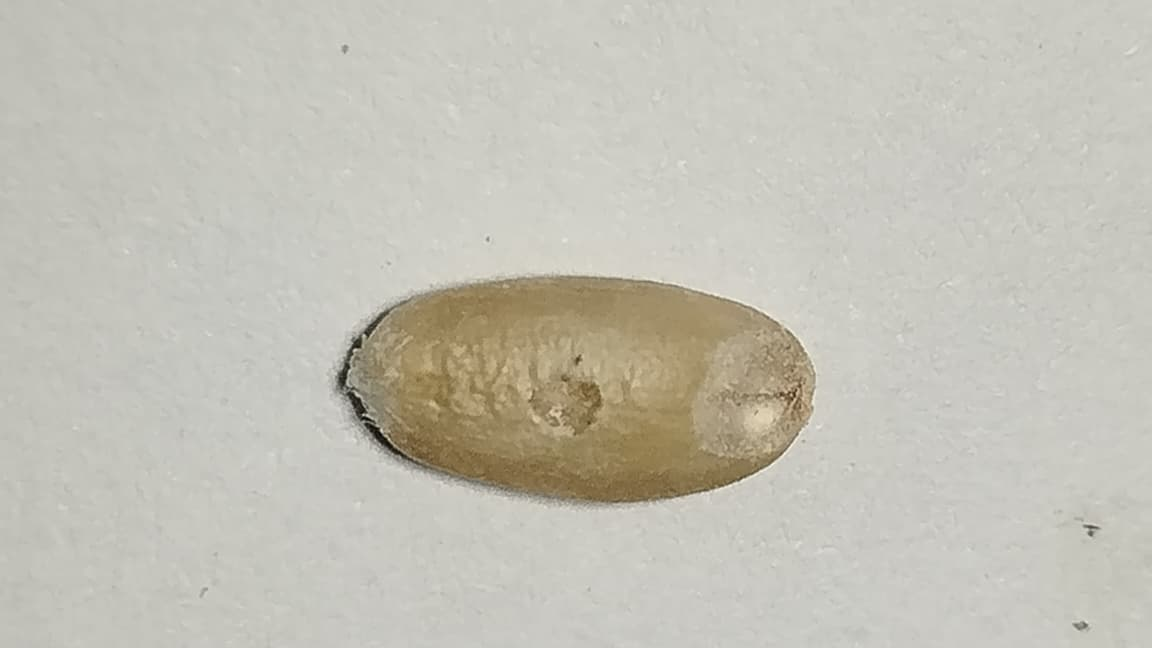damage: (344, 275, 815, 508)
insectdamage: (693, 330, 813, 458), (512, 366, 628, 443)
